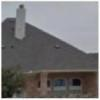chimneys: (15, 4, 26, 42)
